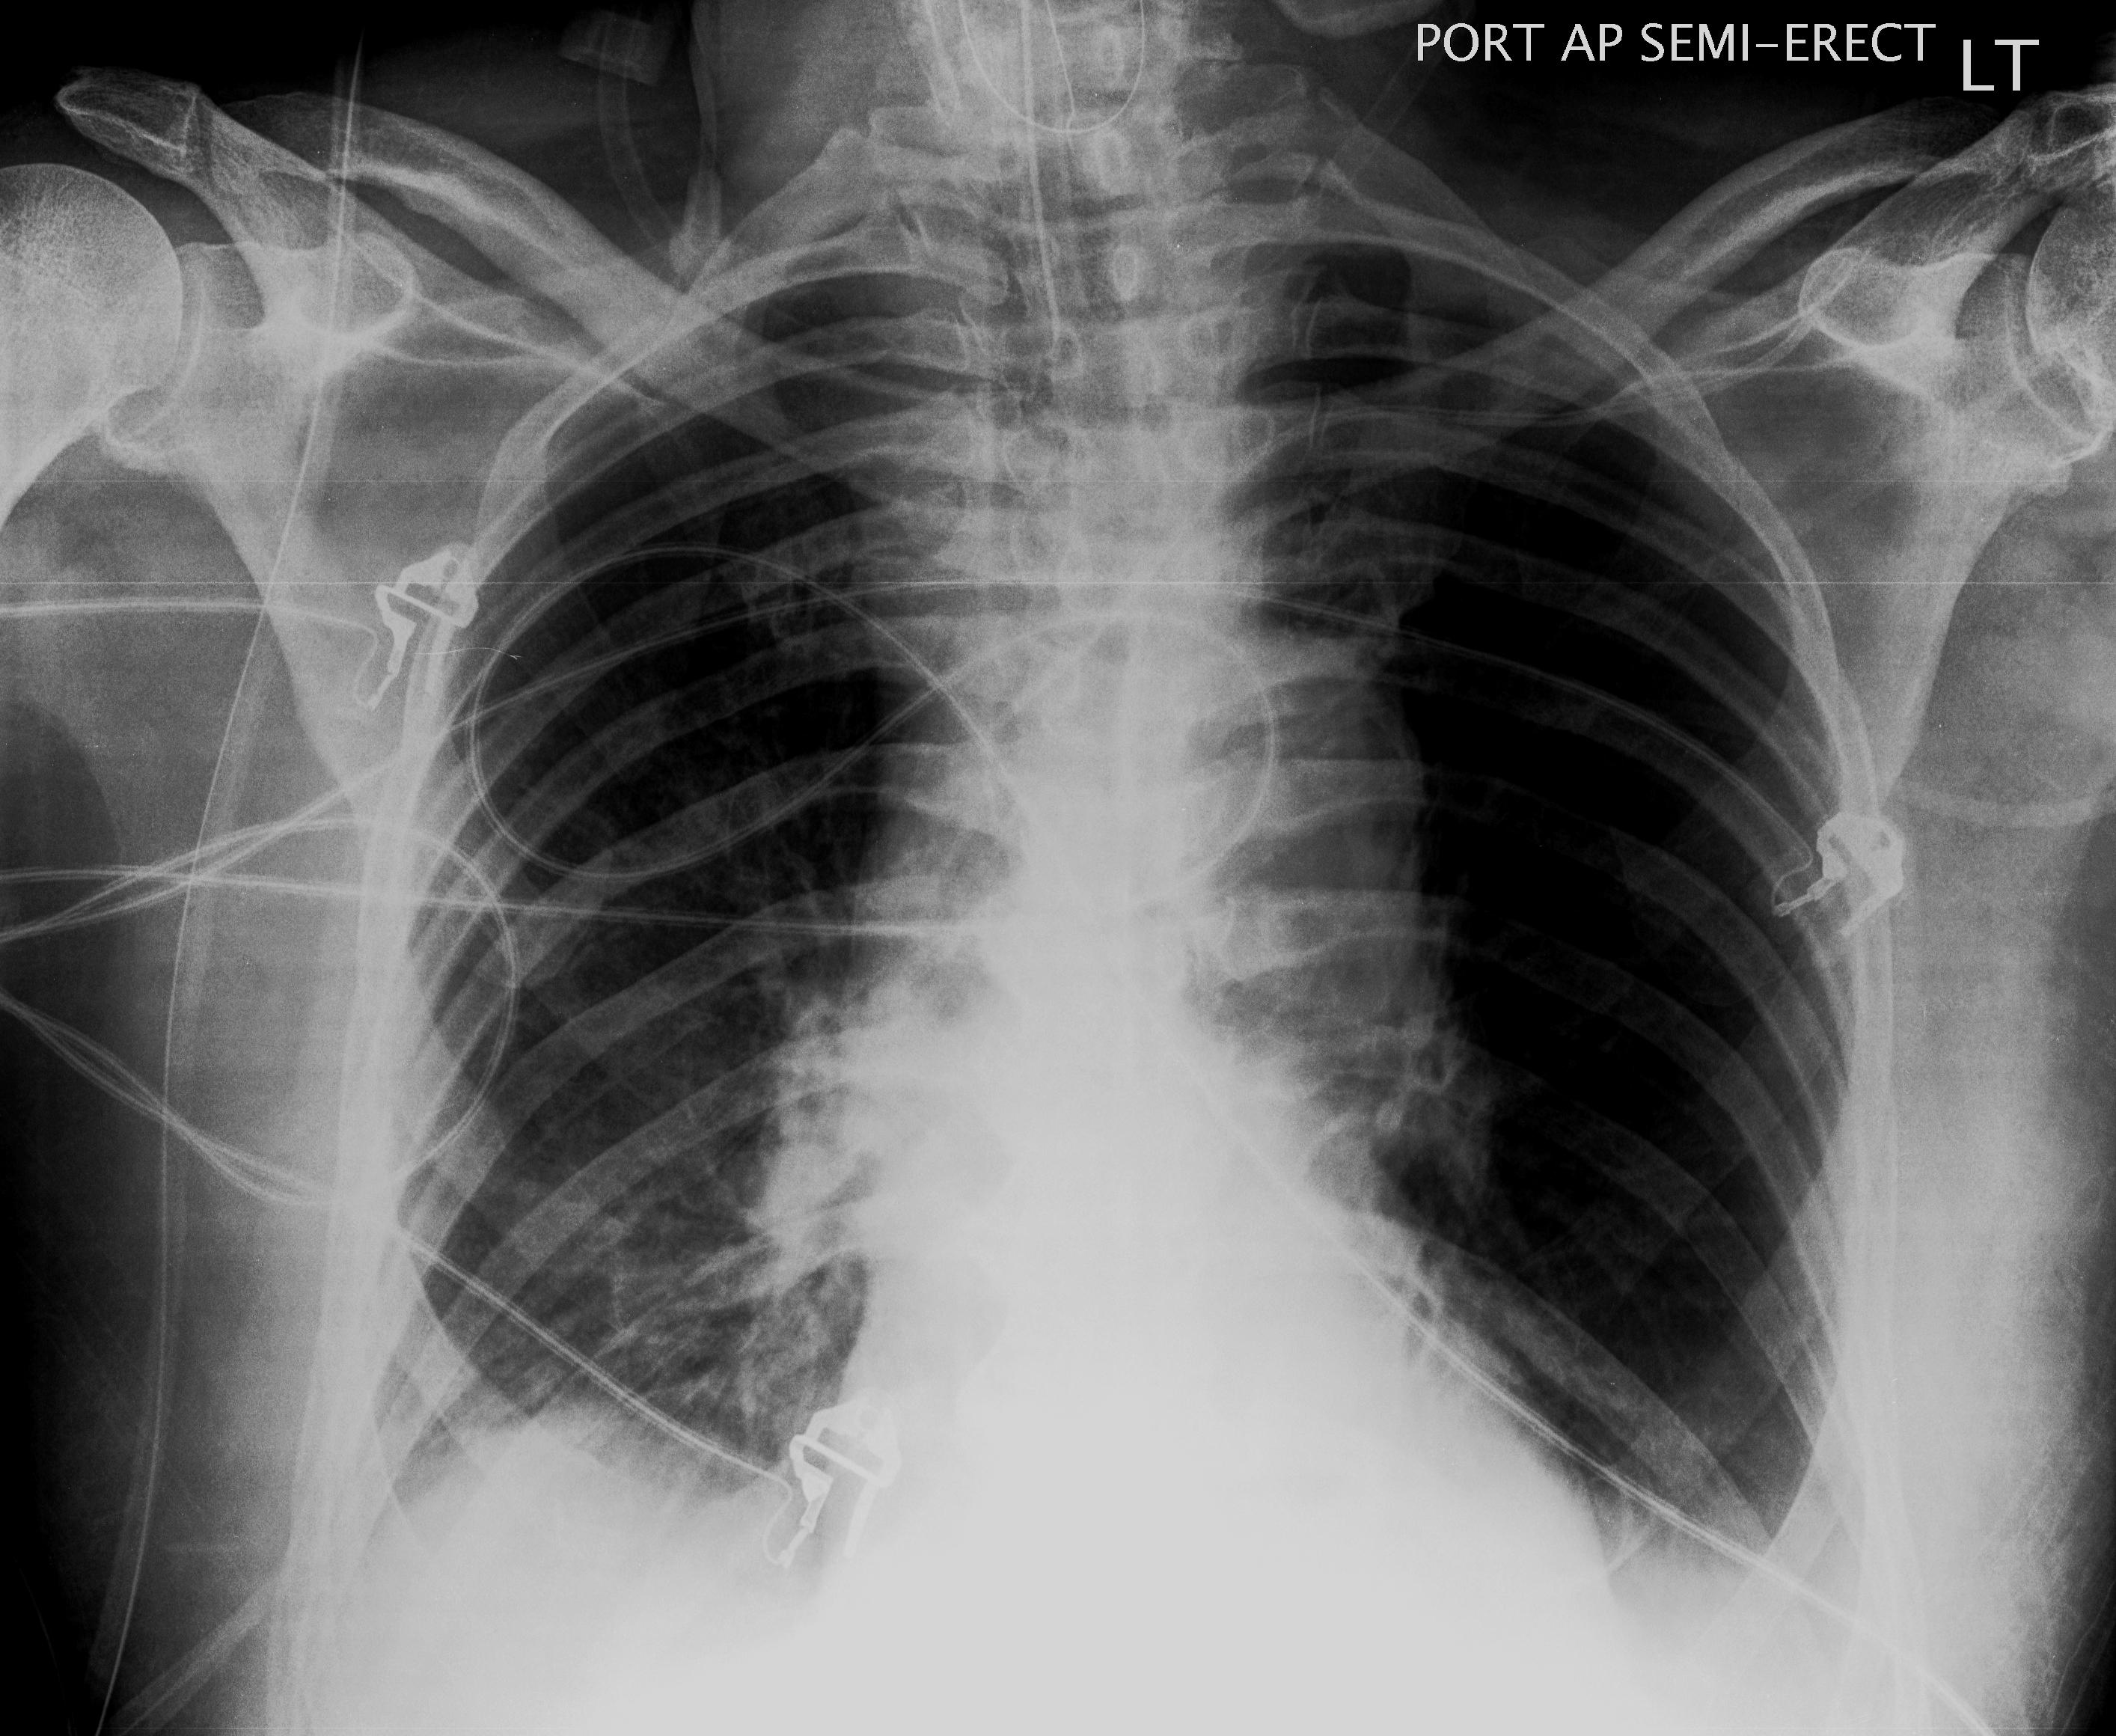Pleural Effusion: (295, 1351, 779, 1736)
